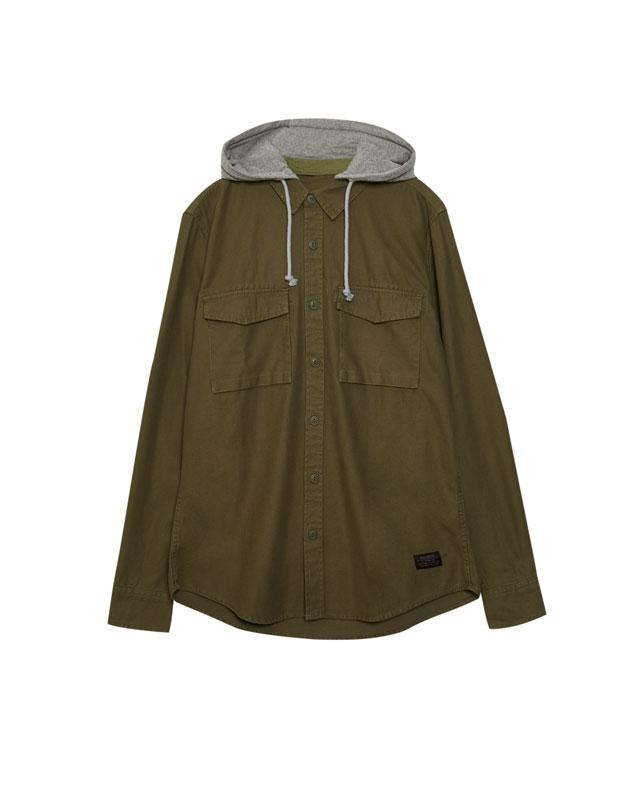teeshirt: (87, 117, 558, 641)
